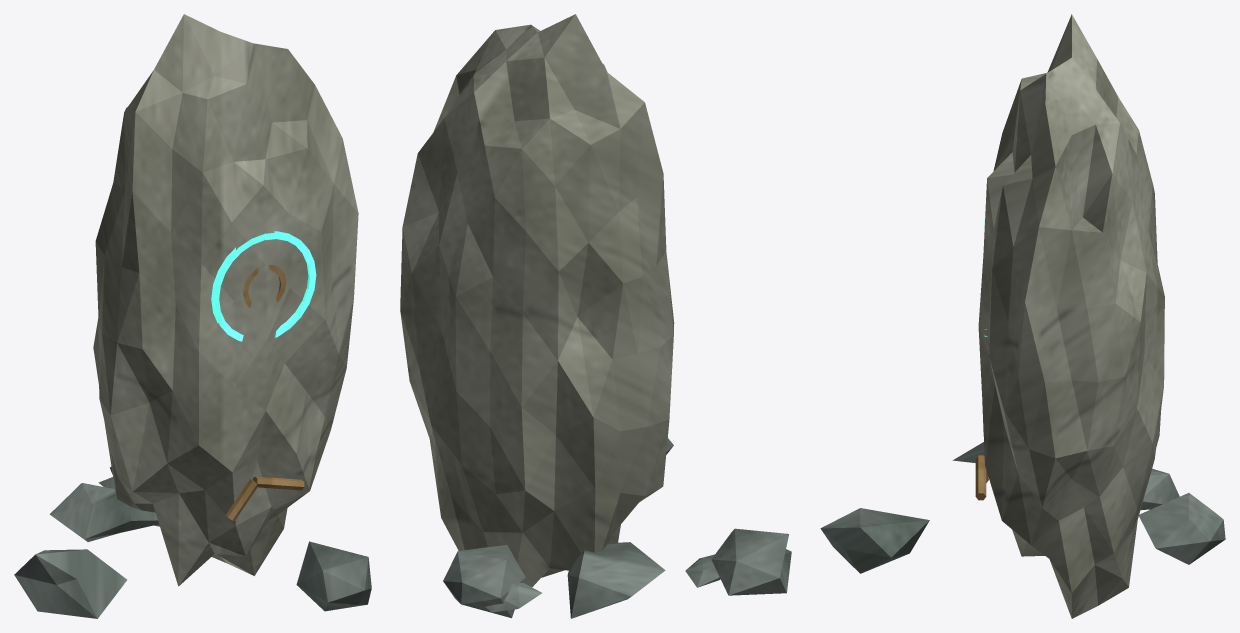
File: 0662_waystone_12.glb
3 views of the same model, side by side, from view 1: azimuth 30°, elevation 25°; view 2: azimuth 150°, elevation 25°; view 3: azimuth 270°, elevation 25° (orthographic). The views are drawn at different scales.
Visible parts, largest first — view 1: stone_light, stone, glow, brass; view 2: stone_light, stone; view 3: stone_light, stone.
Boxes of the visible parts, x1,y1,x2,y2 form: stone_light: [93, 14, 358, 586]; stone: [14, 466, 371, 618]; glow: [211, 231, 316, 341]; brass: [225, 265, 304, 521]; stone_light: [400, 14, 674, 587]; stone: [443, 438, 791, 618]; stone_light: [978, 14, 1164, 618]; stone: [820, 442, 1225, 573].
Size of the model in its own units: 1.44 by 2.36 by 1.52.
Materials: 4 (4 with a texture image).
